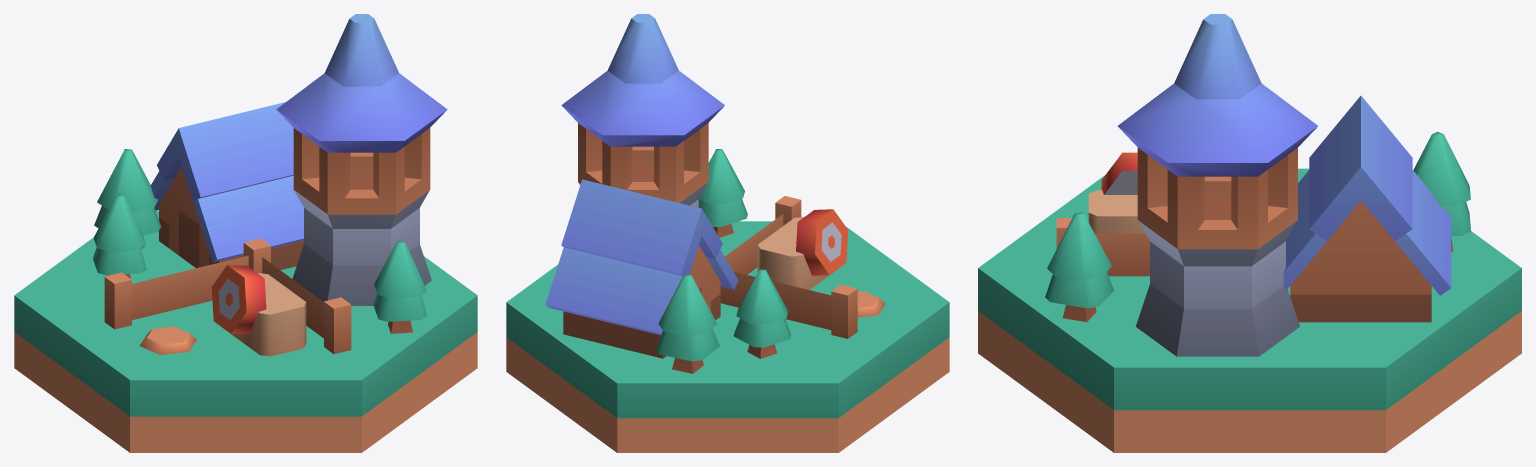
The model's file is building-archery.fbx.
3 renders of one model, left to right at view 1: azimuth 30°, elevation 25°; view 2: azimuth 150°, elevation 25°; view 3: azimuth 270°, elevation 25°, orthographic. The views are drawn at different scales.
Visible parts, largest first — view 1: building_archery; view 2: building_archery; view 3: building_archery.
Boxes of the visible parts, x1,y1,x2,y2 form: building_archery: (14,14,477,452); building_archery: (506,14,949,452); building_archery: (978,14,1521,452).
Size of the model in its own units: 100 by 92 by 115.
Materials: 1 (1 with a texture image).
